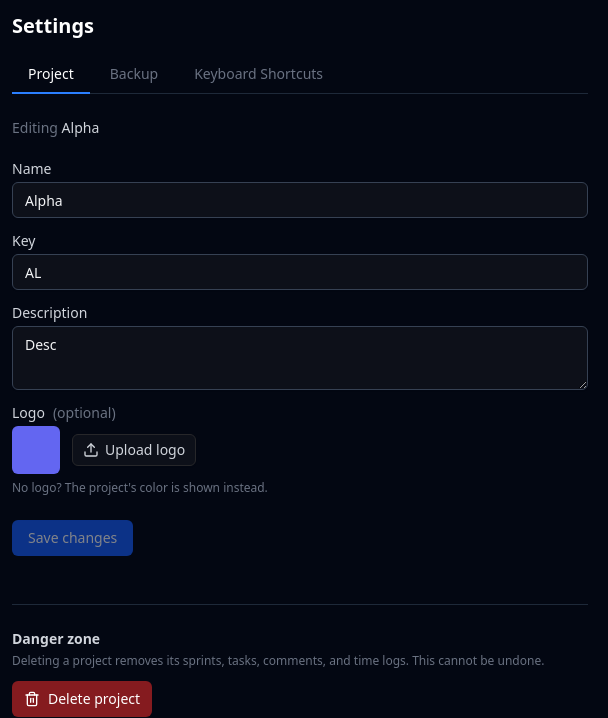
Test case: Settings — form › shows error message when save fails
This screenshot has width=608, height=718.
Replace the text in the field labelled "Name" with "Beta". click: (300, 200)
box: [12,182,588,218]
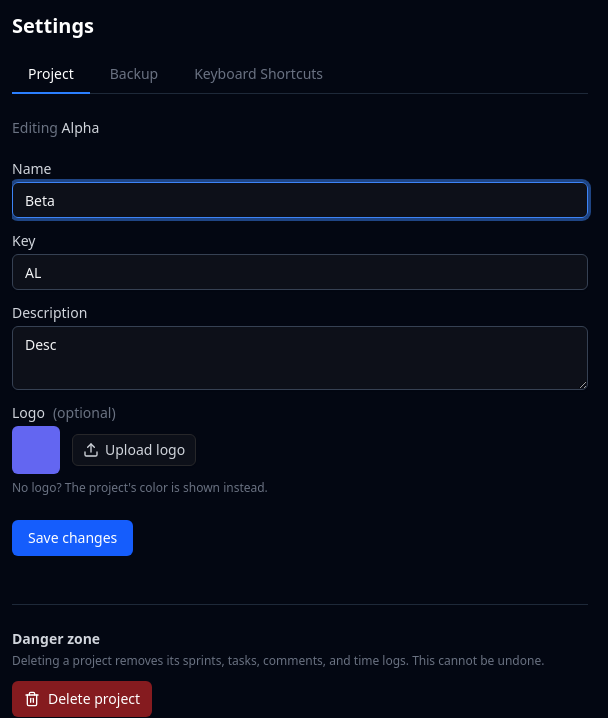
Click the button "Save changes". click: (73, 538)
box: [12,520,133,556]
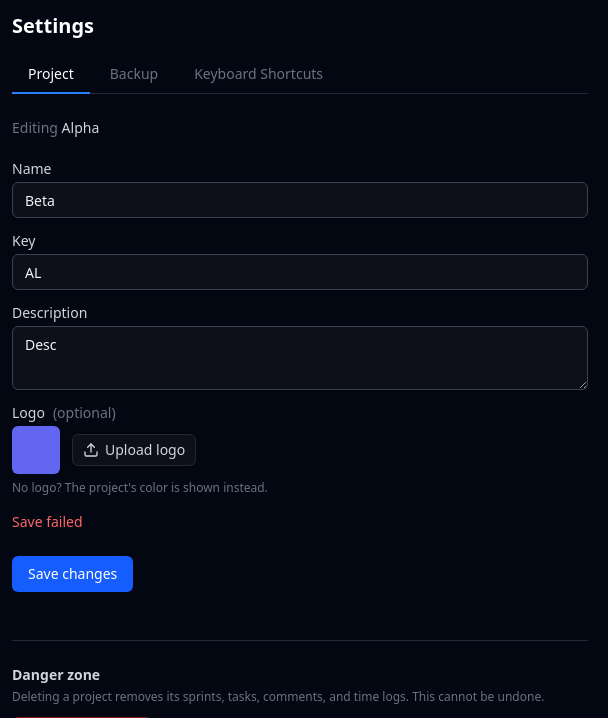
expect the message reads "Save failed": met, box [12,512,83,531]
